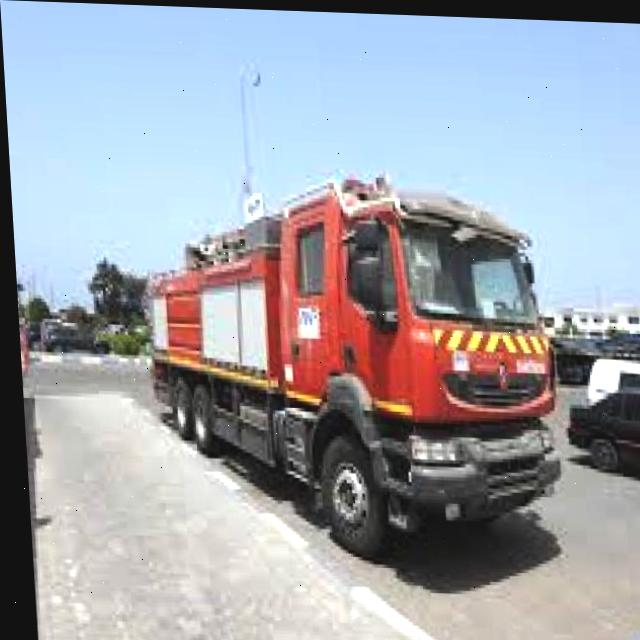emergency: (135, 198, 565, 557)
